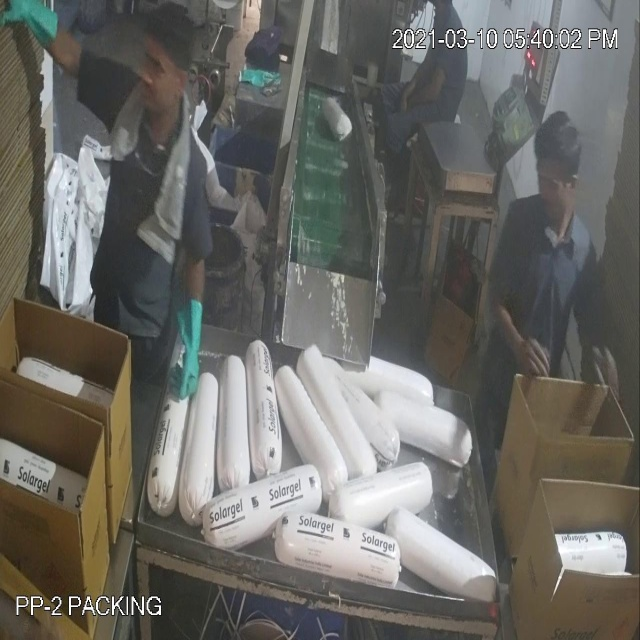Guantes: (0, 2, 71, 67), (171, 282, 208, 404)
Sin_guantes: (483, 292, 552, 387), (585, 309, 621, 430), (395, 53, 456, 122)
